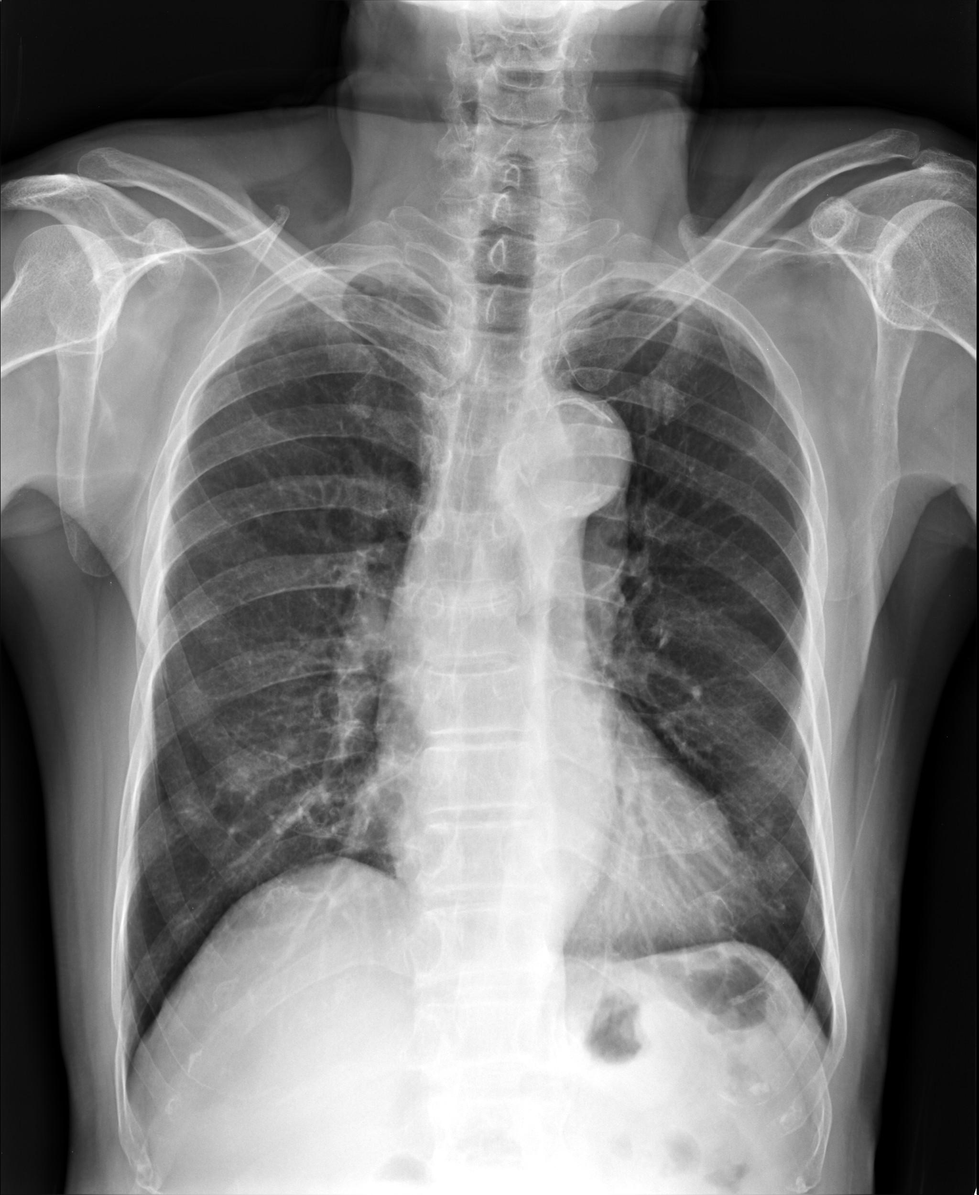Aortic enlargement: (498, 387, 634, 527)
Cardiomegaly: (372, 758, 766, 952)
Pleural thickening: (250, 261, 438, 318), (640, 291, 769, 374)
